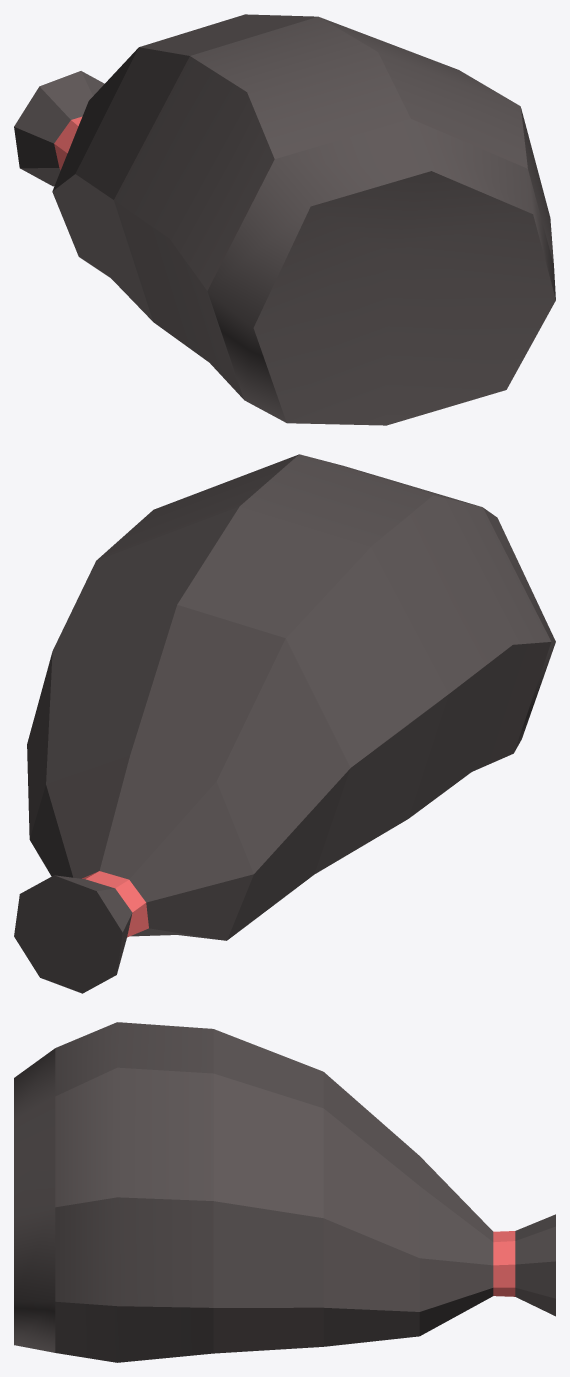
Rendered from trashbag3.fbx.
The picture shows the model from 3 angles, top to bottom: view 1: azimuth 30°, elevation 25°; view 2: azimuth 150°, elevation 25°; view 3: azimuth 270°, elevation 25°; orthographic projection. The views are drawn at different scales.
Visible parts, largest first — view 1: pCylinder139; view 2: pCylinder139; view 3: pCylinder139.
Boxes of the visible parts, x1=… form: pCylinder139: x1=14, y1=14, x2=555, y2=425; pCylinder139: x1=14, y1=454, x2=555, y2=993; pCylinder139: x1=14, y1=1022, x2=555, y2=1362.
Bounding box in the file's own units: 45.28 × 36.16 × 68.24.
